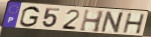2: (61, 9, 81, 31)
5: (42, 7, 62, 29)
G: (19, 6, 41, 28)
H: (79, 8, 106, 34), (122, 13, 147, 35)
N: (99, 11, 126, 34)
